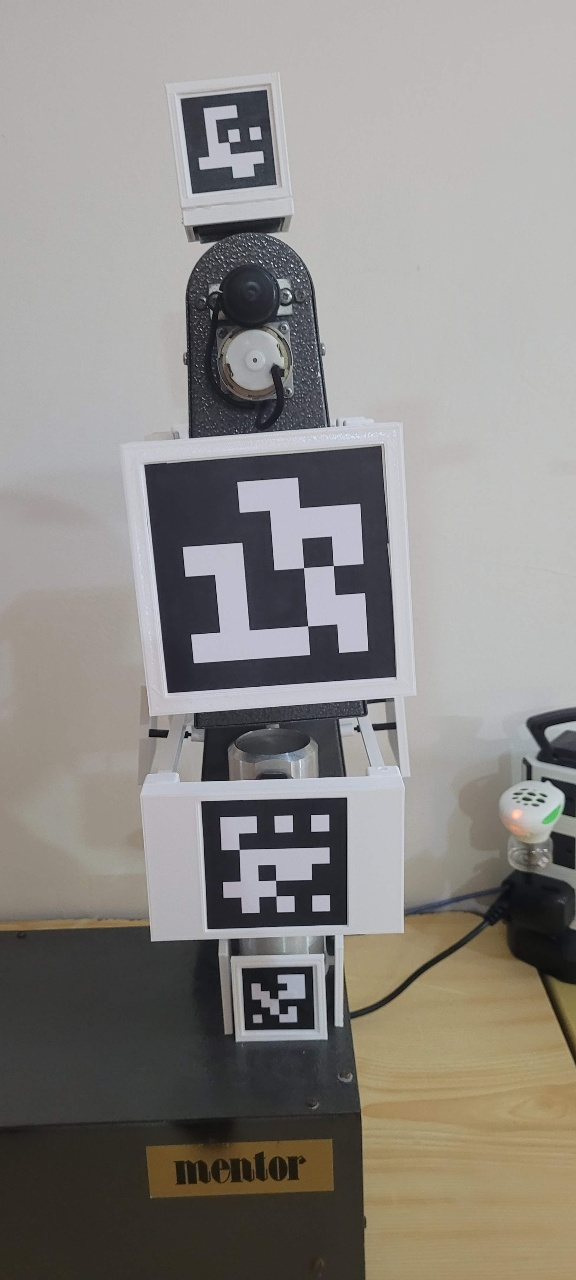Robot: (115, 69, 419, 1048)
